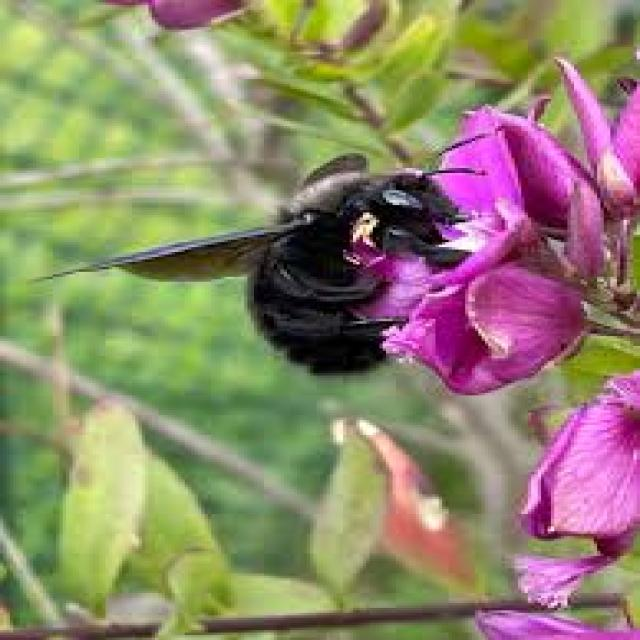Xylocopa: (51, 144, 481, 400)
